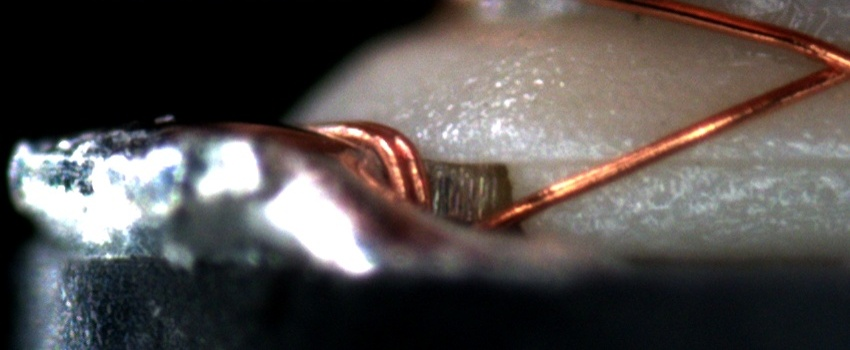CL: (797, 35, 849, 92)
DL: (509, 127, 850, 191)
TE: (294, 110, 447, 223)
